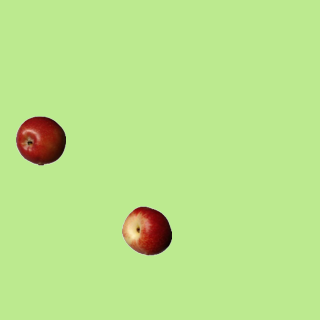Apple Braeburn: (15, 115, 65, 165)
Nectarine: (121, 205, 171, 255)
